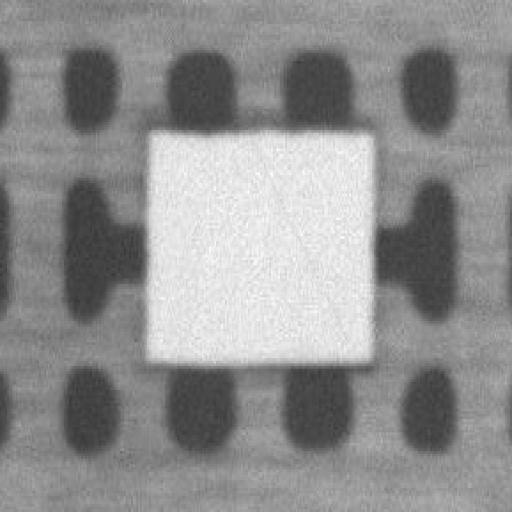DIE_CRACK: (377, 94, 512, 224)
